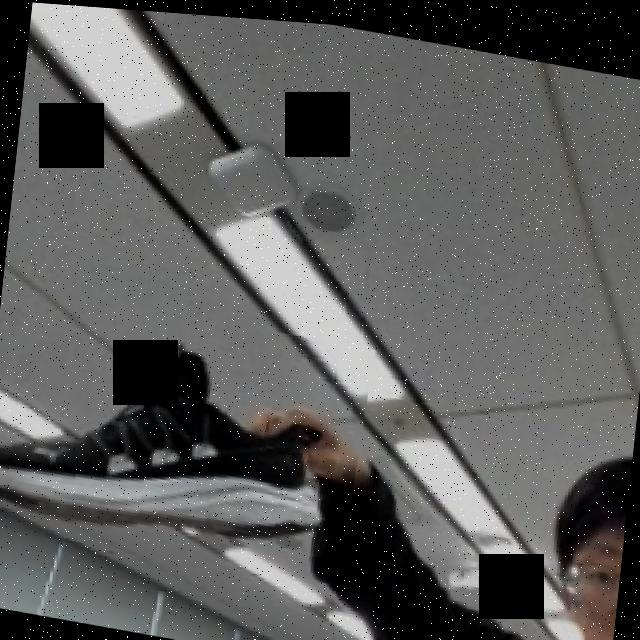shoe: (0, 282, 375, 588)
